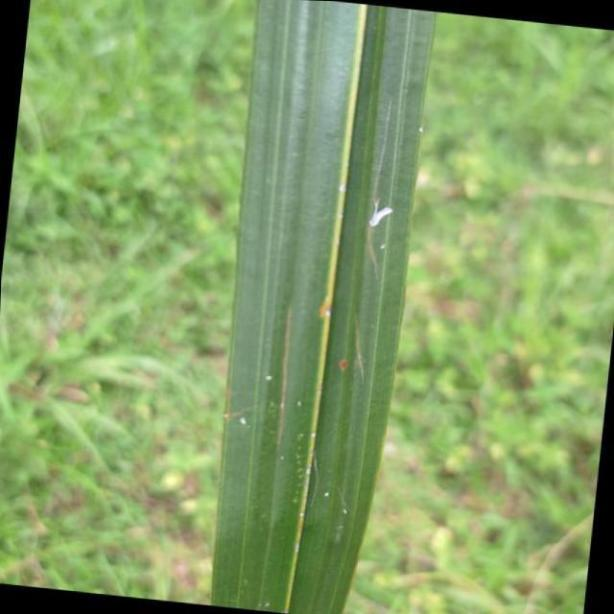Boron: (210, 0, 438, 614)
